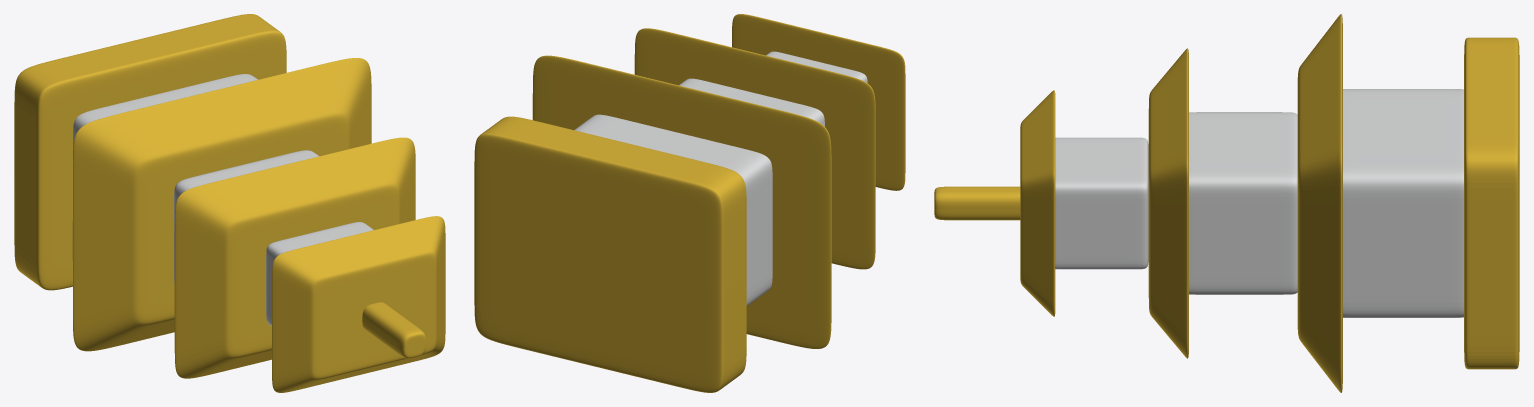
The model's file is pagoda_shrine_sq.glb.
3 renders of one model, left to right at view 1: azimuth 30°, elevation 25°; view 2: azimuth 150°, elevation 25°; view 3: azimuth 270°, elevation 25°, orthographic. The views are drawn at different scales.
Visible parts, largest first — view 1: superquadric_2, superquadric_4, superquadric_0, superquadric_6, superquadric_7, superquadric_1, superquadric_5, superquadric_3; view 2: superquadric_0, superquadric_2, superquadric_4, superquadric_6, superquadric_1, superquadric_3, superquadric_5; view 3: superquadric_1, superquadric_3, superquadric_0, superquadric_2, superquadric_5, superquadric_4, superquadric_6, superquadric_7.
Boxes of the visible parts, box(x1,y1,x2,y2) form: superquadric_2: box(72, 58, 371, 351); superquadric_4: box(174, 137, 415, 378); superquadric_0: box(14, 14, 286, 290); superquadric_6: box(272, 216, 445, 392); superquadric_7: box(362, 302, 425, 358); superquadric_1: box(73, 74, 257, 149); superquadric_5: box(266, 222, 373, 326); superquadric_3: box(174, 150, 318, 283); superquadric_0: box(474, 116, 746, 392); superquadric_2: box(532, 55, 831, 348); superquadric_4: box(634, 28, 875, 269); superquadric_6: box(732, 14, 905, 190); superquadric_1: box(574, 114, 772, 305); superquadric_3: box(679, 78, 824, 126); superquadric_5: box(766, 51, 867, 82); superquadric_1: box(1343, 89, 1463, 317); superquadric_3: box(1189, 112, 1297, 294); superquadric_0: box(1464, 37, 1519, 369); superquadric_2: box(1297, 14, 1342, 392); superquadric_5: box(1055, 137, 1148, 269); superquadric_4: box(1148, 48, 1188, 358); superquadric_6: box(1020, 90, 1055, 316); superquadric_7: box(934, 186, 1020, 220).
Size of the model in its own units: 0.6197 by 0.4598 by 1.
